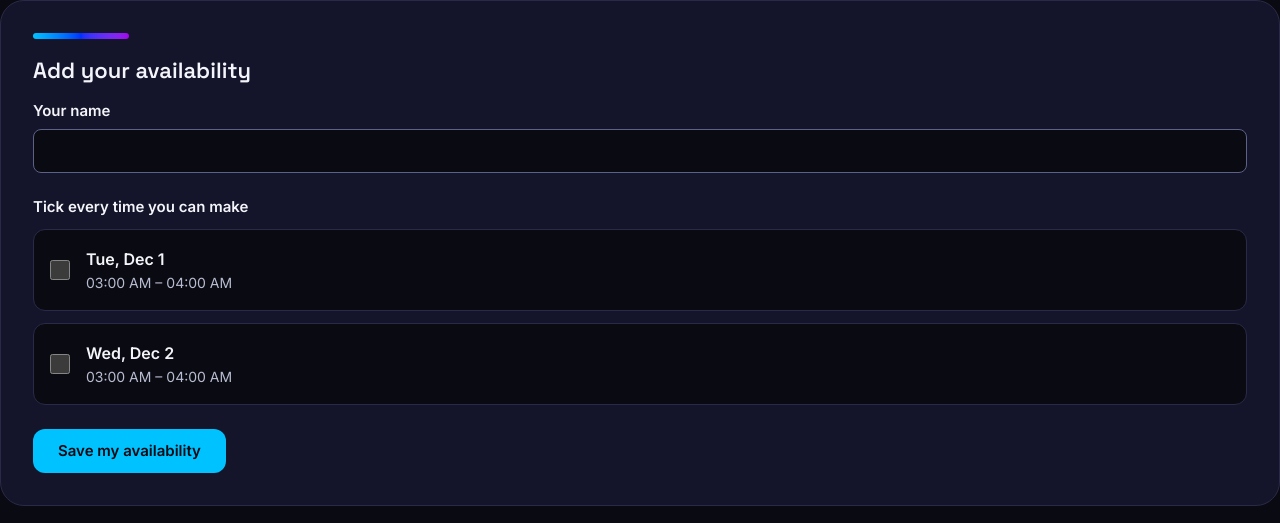
VoteForm › submits a new vote, remembers it and refreshes
Type "Dee" into the field labelled "Your name" at [640, 151], box [33,129,1247,173]
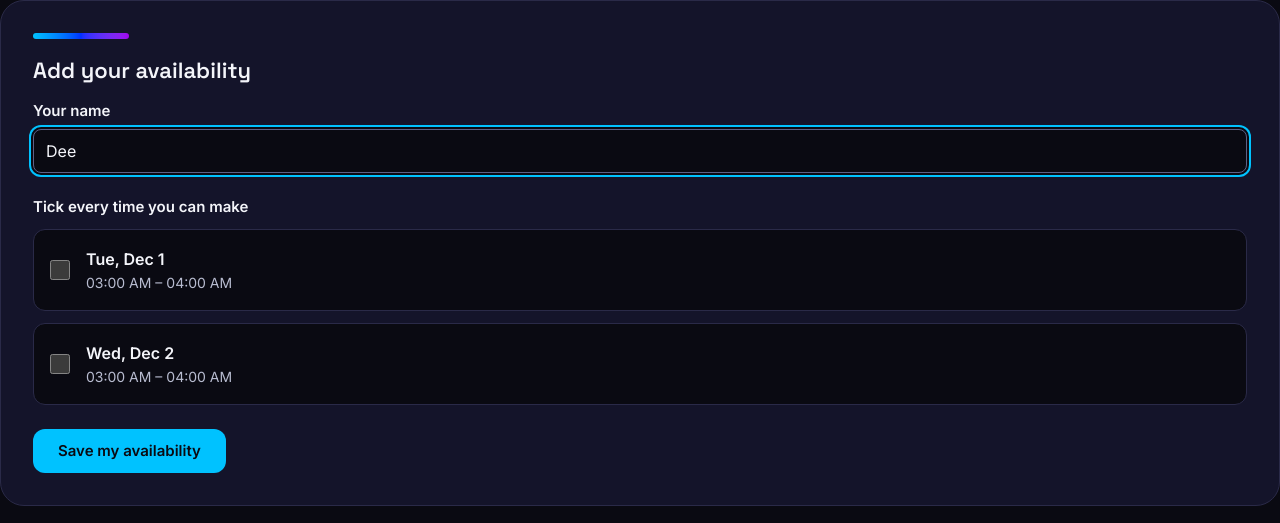
Click the checkbox labelled "Wed, Dec 2 03:00 AM – 04:00 AM" at [60, 364], box [50,354,70,374]
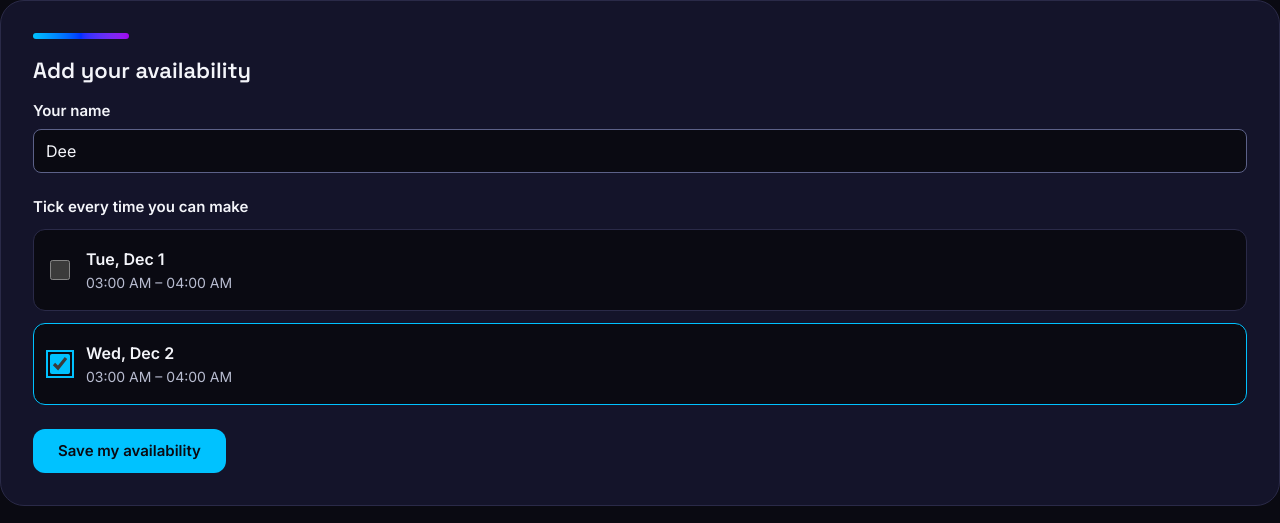
Click the button "Save my availability" at [129, 451], box [33,429,226,473]
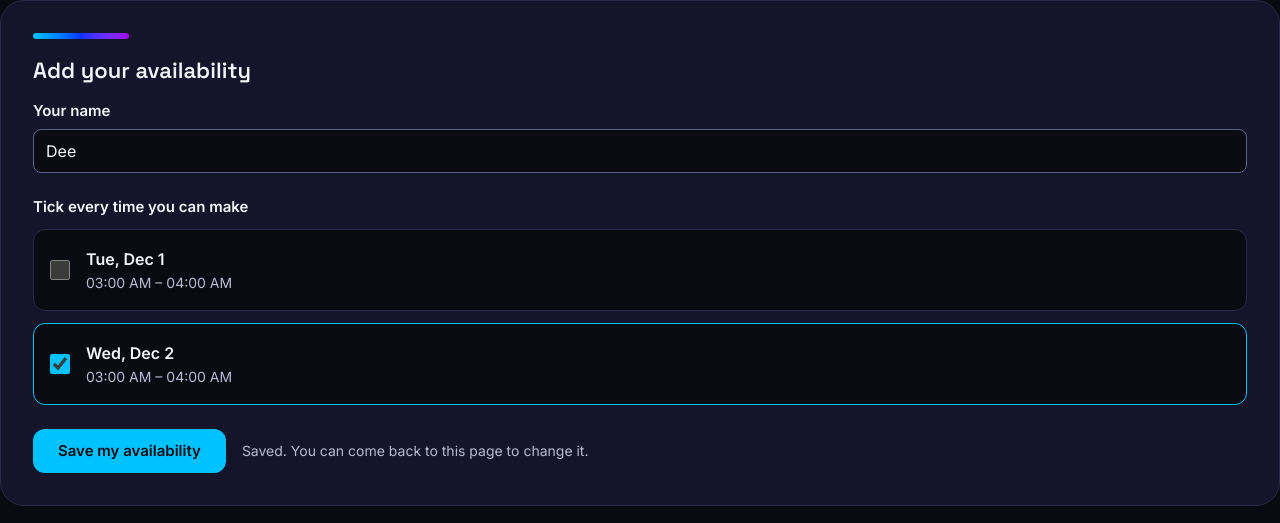
Expected: the message shows "Saved", [242,442,588,459]
